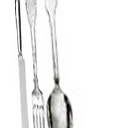Fork: (22, 3, 57, 128)
